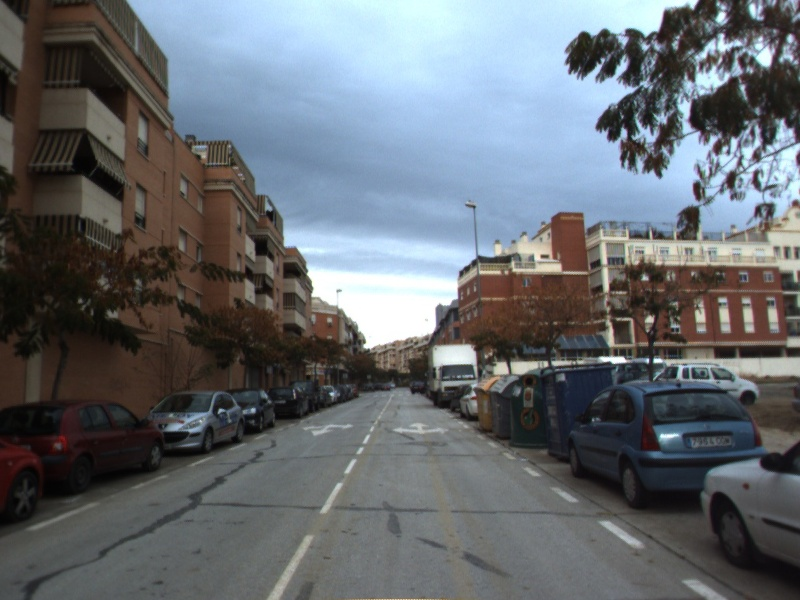STRAIGHT_LEFT_RIGHT: (390, 420, 451, 436)
